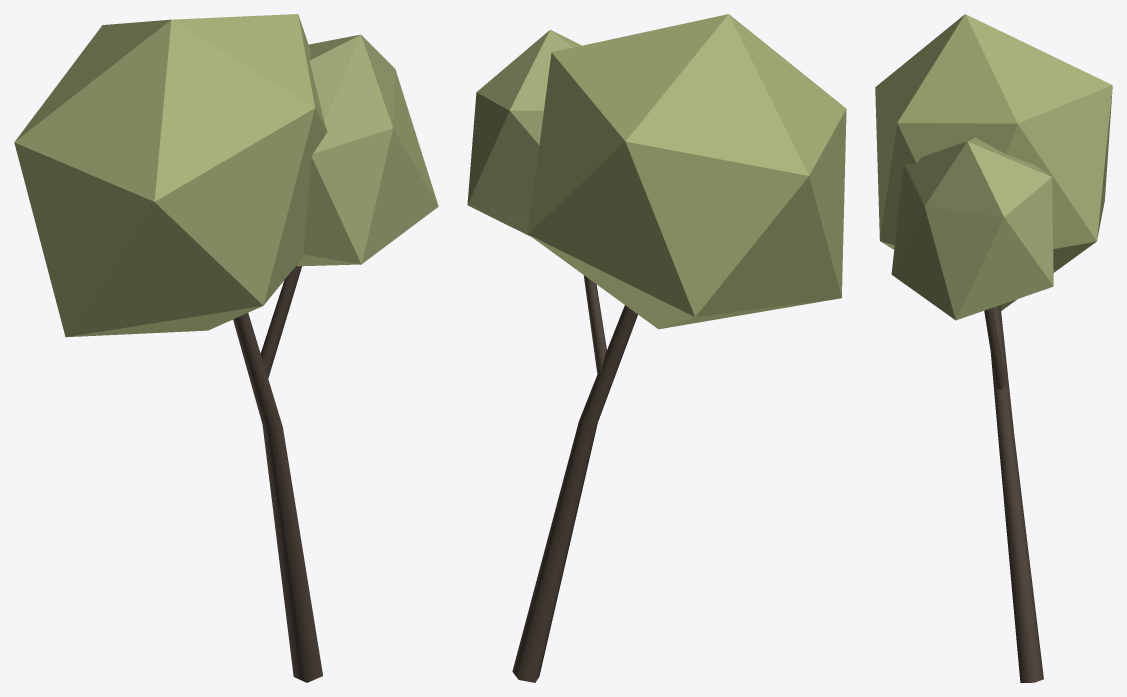
Rendered from Tree_1.fbx.
3 views of the same model, side by side, from view 1: azimuth 30°, elevation 25°; view 2: azimuth 150°, elevation 25°; view 3: azimuth 270°, elevation 25° (orthographic). The views are drawn at different scales.
Parts seen in each view (by area): view 1: Tree26; view 2: Tree26; view 3: Tree26.
Boxes of the visible parts, <box> form: Tree26: <box>14,14,438,682</box>; Tree26: <box>467,14,846,682</box>; Tree26: <box>875,14,1112,682</box>.
Size of the model in its own units: 404 by 734 by 264.
